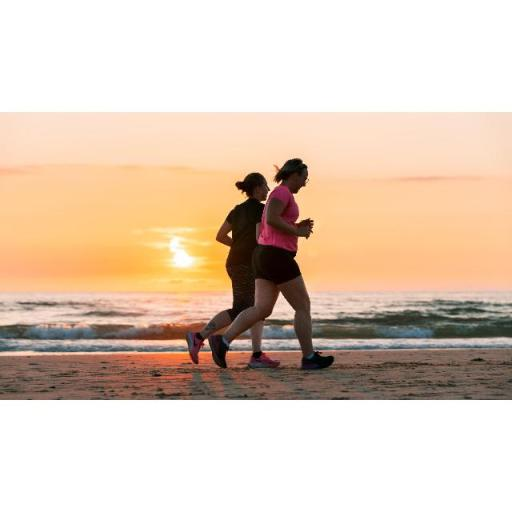Running: (204, 152, 355, 378)
